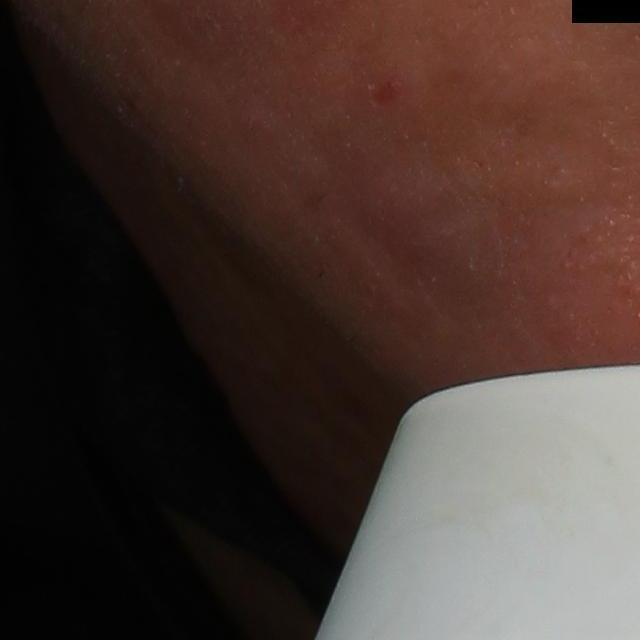nodule: (351, 166, 479, 297)
